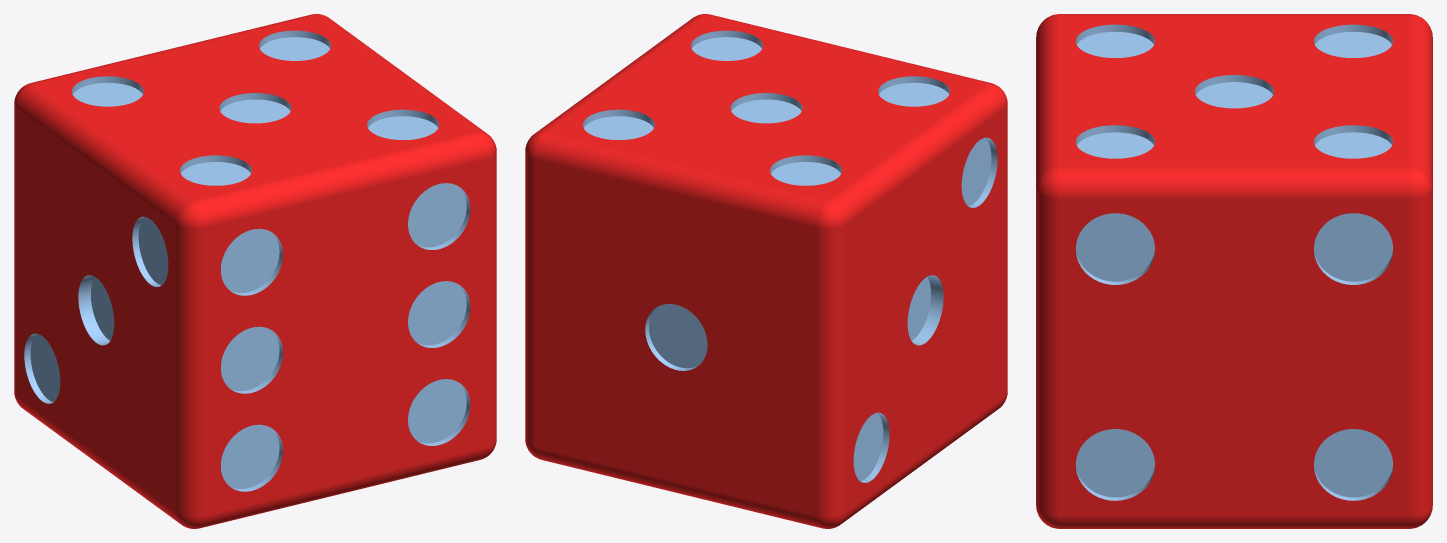
The model's file is kosteniunia.obj.
3 renders of one model, left to right at view 1: azimuth 30°, elevation 25°; view 2: azimuth 150°, elevation 25°; view 3: azimuth 270°, elevation 25°, orthographic. The views are drawn at different scales.
Parts seen in each view (by area): view 1: Bryła1; view 2: Bryła1; view 3: Bryła1.
Boxes of the visible parts, x1,y1,x2,y2 form: Bryła1: [14, 14, 496, 528]; Bryła1: [525, 14, 1007, 528]; Bryła1: [1036, 14, 1432, 528].
Size of the model in its own units: 51 by 50 by 50.
